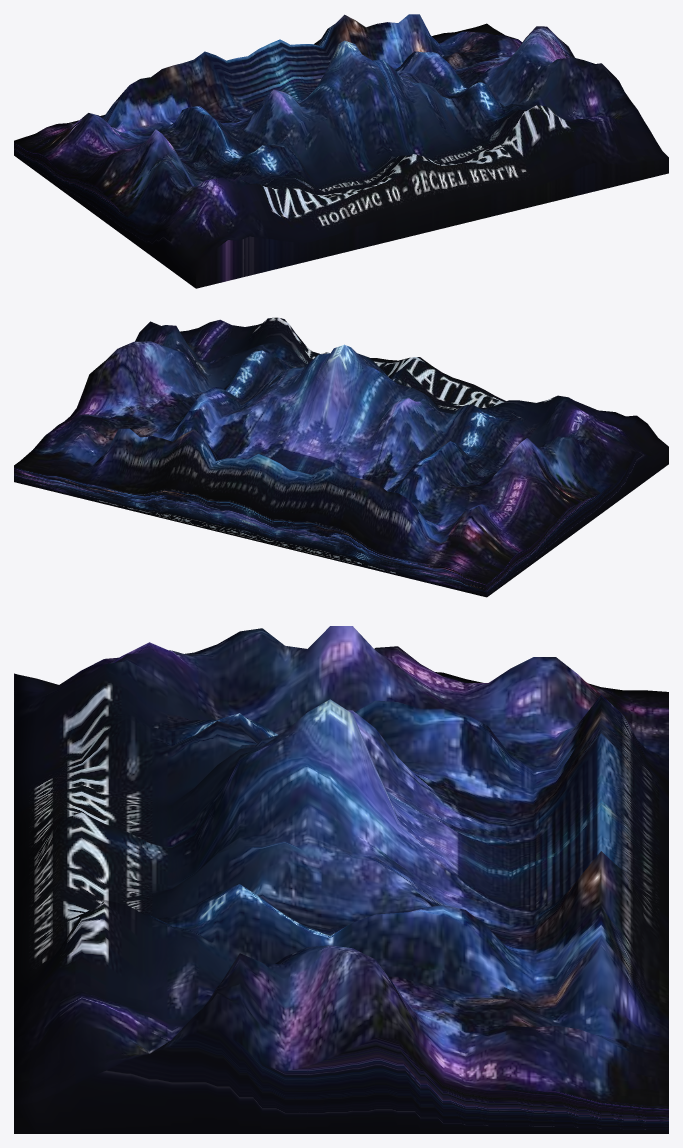
The model's file is HOUSING_10_Secret_Realm.glb.
3 renders of one model, top to bottom at view 1: azimuth 30°, elevation 25°; view 2: azimuth 150°, elevation 25°; view 3: azimuth 270°, elevation 25°, orthographic. The views are drawn at different scales.
Parts seen in each view (by area): view 1: HOUSING_10_Secret_Realm; view 2: HOUSING_10_Secret_Realm; view 3: HOUSING_10_Secret_Realm.
Part boxes in pixels (x1,y1,x2,y2): HOUSING_10_Secret_Realm: [14, 14, 668, 288]; HOUSING_10_Secret_Realm: [14, 317, 668, 597]; HOUSING_10_Secret_Realm: [14, 626, 668, 1133].
Size of the model in its own units: 2 by 0.51 by 1.33.
Materials: 1 (1 with a texture image).
